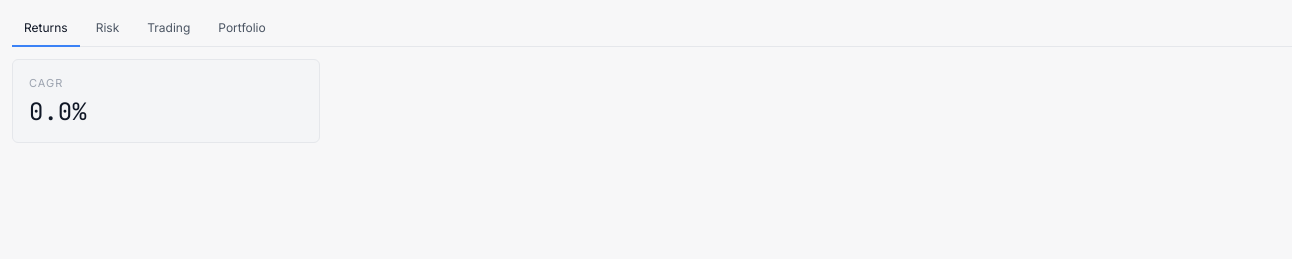
Test: KpiCards › opens Returns and shows one group at a time
The width and height of the screenshot is (1292, 259).
expect the tab "Returns" is shown: met, box [12,12,80,47]
expect the text "CAGR" is shown: met, box [29,76,63,90]
Click the tab "Risk": click(108, 29) [84,12,131,47]
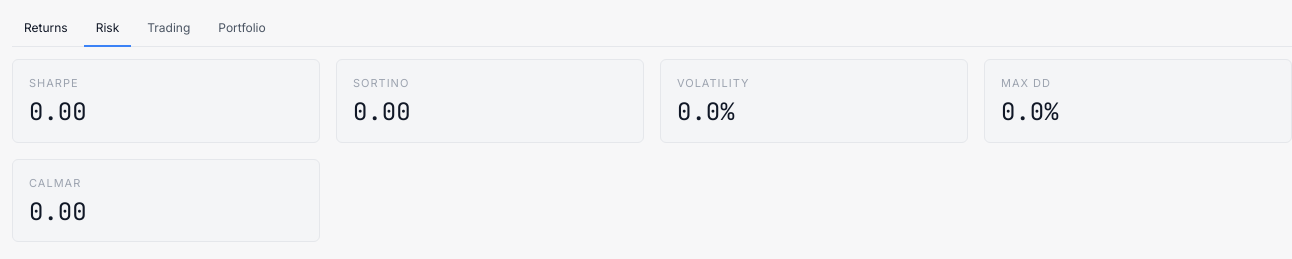
expect the text "CAGR" is gone: met
expect the text "Sharpe" is shown: met, box [29,76,78,90]
expect the text "Sortino" is shown: met, box [353,76,409,90]
Click the tab "Trading": click(169, 29) [135,12,202,47]
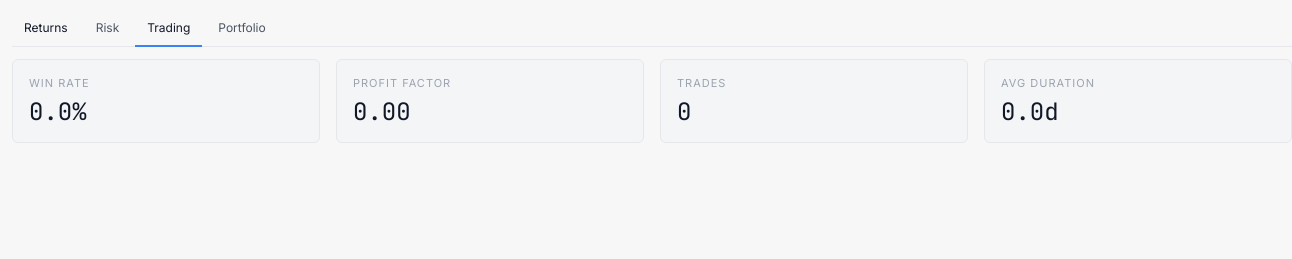
expect the text "Sharpe" is gone: met
expect the text "Win Rate" is shown: met, box [29,76,90,90]
expect the text "Profit Factor" is shown: met, box [353,76,451,90]
Click the tab "Portfolio": click(242, 29) [206,12,278,47]
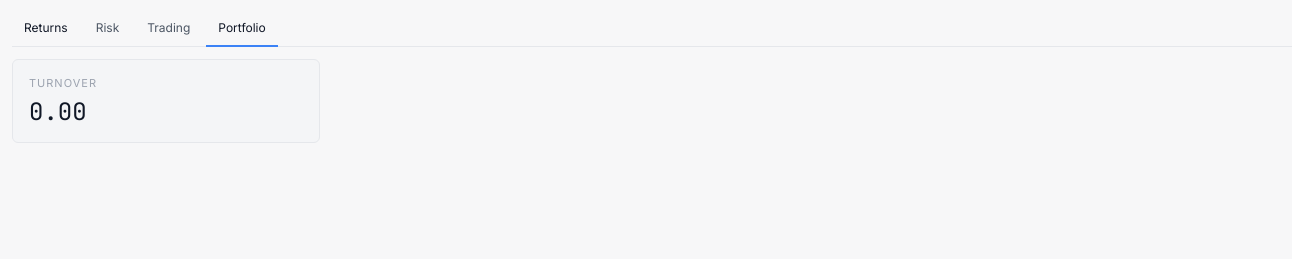
expect the text "Turnover" is shown: met, box [29,76,97,90]
expect the text "Win Rate" is gone: met
